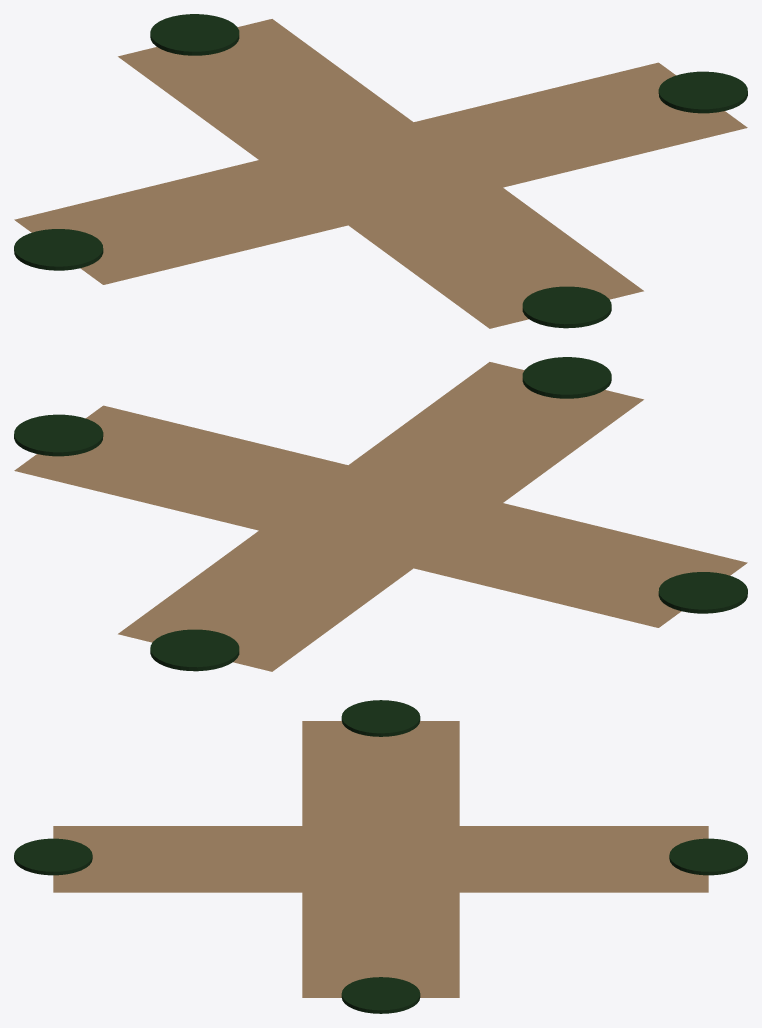
The model's file is cross_dormant.glb.
The picture shows the model from 3 angles, top to bottom: view 1: azimuth 30°, elevation 25°; view 2: azimuth 150°, elevation 25°; view 3: azimuth 270°, elevation 25°; orthographic projection. The views are drawn at different scales.
Parts seen in each view (by area): view 1: Cross_Trace, Via_Top, Via_Bottom, Via_Right, Via_Left; view 2: Cross_Trace, Via_Bottom, Via_Top, Via_Right, Via_Left; view 3: Cross_Trace, Via_Bottom, Via_Top, Via_Left, Via_Right.
Part boxes in pixels (x1,y1,x2,y2): Cross_Trace: [14, 19, 747, 328]; Via_Top: [150, 14, 239, 55]; Via_Bottom: [522, 286, 611, 328]; Via_Right: [658, 71, 747, 113]; Via_Left: [14, 229, 103, 270]; Cross_Trace: [14, 362, 747, 671]; Via_Bottom: [522, 357, 611, 398]; Via_Top: [150, 629, 239, 671]; Via_Right: [14, 414, 103, 456]; Via_Left: [658, 572, 747, 613]; Cross_Trace: [53, 721, 708, 997]; Via_Bottom: [14, 838, 92, 875]; Via_Top: [669, 838, 747, 875]; Via_Left: [341, 700, 420, 736]; Via_Right: [341, 977, 420, 1013].
Bounding box in the file's own units: 1.12 × 0.007 × 1.12.
